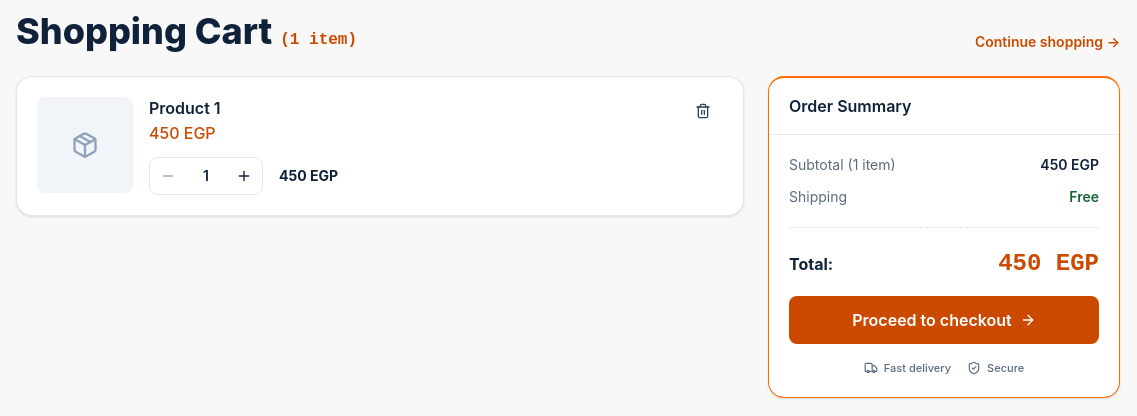
Test: Cart page › removes a line from the cart
The image size is (1137, 416).
Step 1. Click the button named "remove product 1 from cart" → (703, 111), box top-left (683, 97), bottom-right (723, 125)
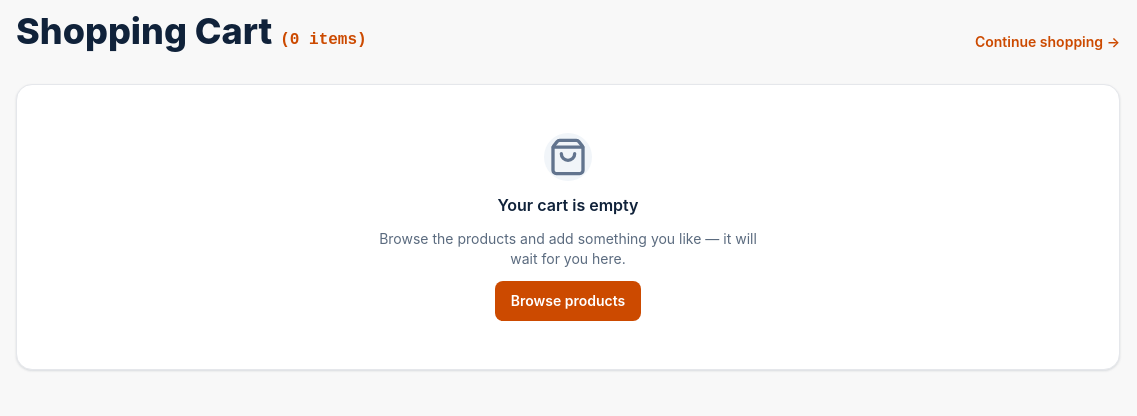
Expected: the heading "Your cart is empty" is shown, top-left (498, 193), bottom-right (638, 217)
